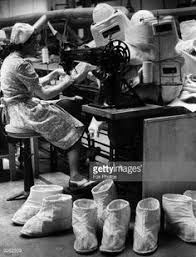person without safety: (1, 20, 94, 188)
